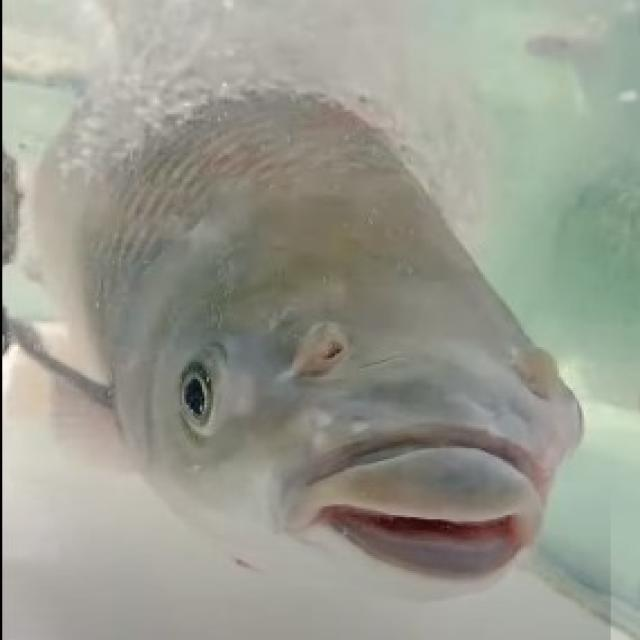Big-Head-Carp: (9, 4, 588, 621)
